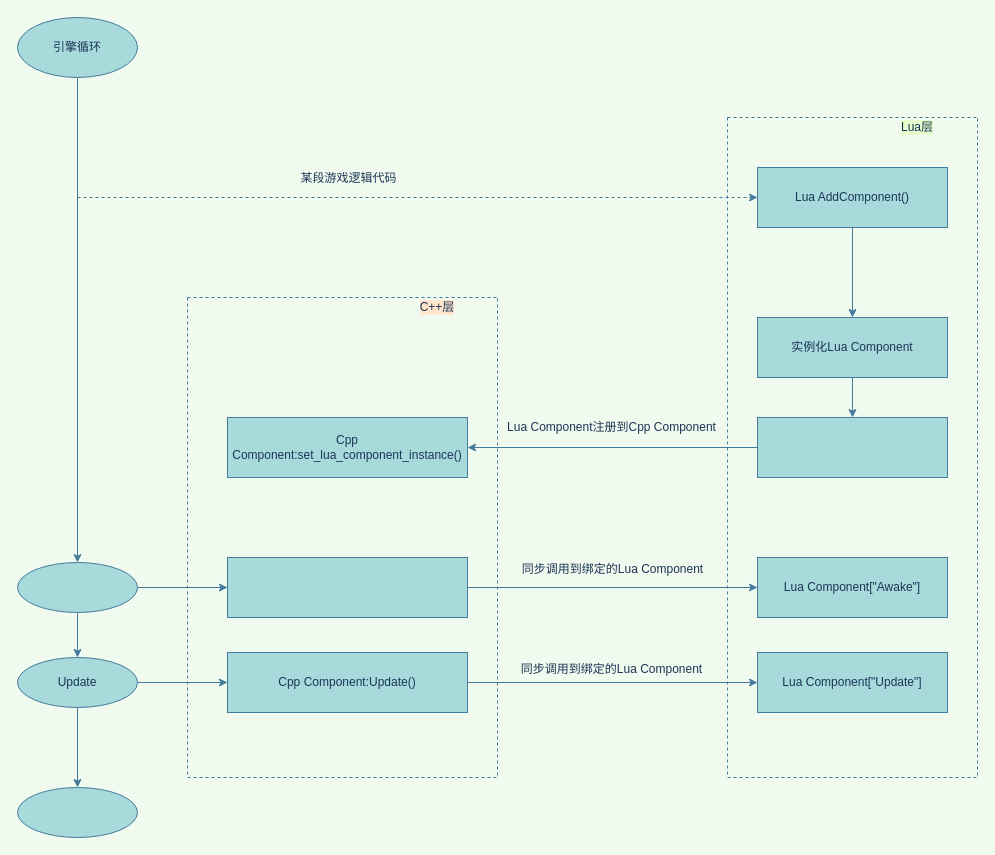
This 995x855 diagram has some shape labels left out. The shapes that lost their labels are listed below. From the top down, each one's centre as x and y in pixels, then its label:
At point 852,447: "实例化CPP Component".
At point 77,587: "Awake".
At point 347,587: "Cpp Component:Awake()".
At point 77,812: "End".
